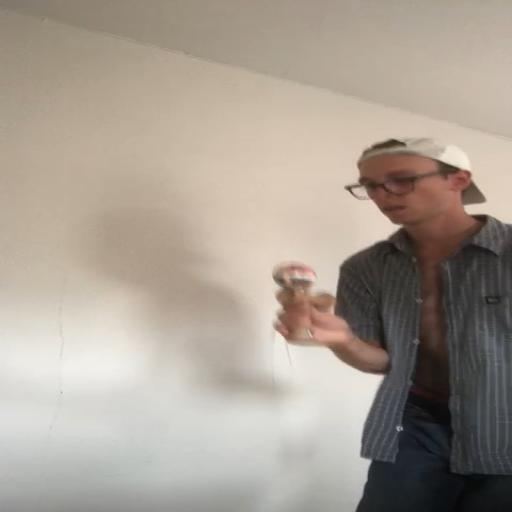kendama_ball: (273, 264, 316, 288)
